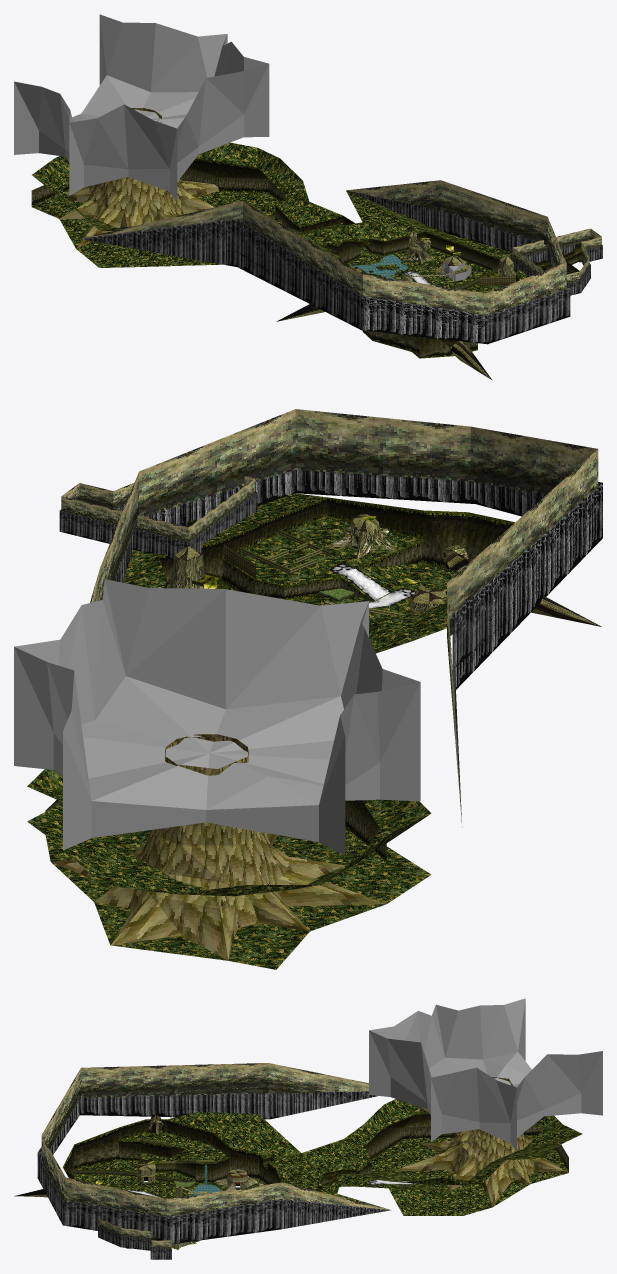
Rendered from world.obj.
The picture shows the model from 3 angles, top to bottom: view 1: azimuth 30°, elevation 25°; view 2: azimuth 150°, elevation 25°; view 3: azimuth 270°, elevation 25°; orthographic projection. The views are drawn at different scales.
Parts seen in each view (by area): view 1: dekutree_treetopd, main_treesm, dekutree_trunksd, main_trunksm, dekutree_grassd, main_grassm, dekutree_barkb, main_wallm, dekutree_walld2, dekutree_treesd, training_treest, training_trunkst (+4 smaller); view 2: dekutree_treetopd, main_treesm, dekutree_grassd, dekutree_barkb, main_grassm, dekutree_trunksd, main_trunksm, main_wallm, main_walls, training_treest, training_trunkst, main_ledge (+7 smaller); view 3: dekutree_treetopd, main_treesm, dekutree_grassd, dekutree_trunksd, main_grassm, main_trunksm, dekutree_barkb, main_wallm, dekutree_treesd, dekutree_walld2, main_walls, training_trunkst (+3 smaller).
Part boxes in pixels (x1,y1,x2,y2): dekutree_treetopd: [14, 14, 269, 201]; main_treesm: [81, 180, 566, 315]; dekutree_trunksd: [81, 190, 549, 329]; main_trunksm: [80, 219, 570, 344]; dekutree_grassd: [32, 142, 371, 267]; main_grassm: [299, 190, 547, 291]; dekutree_barkb: [54, 108, 218, 248]; main_wallm: [275, 205, 501, 358]; dekutree_walld2: [31, 158, 371, 253]; dekutree_treesd: [86, 182, 547, 267]; training_treest: [512, 228, 601, 282]; training_trunkst: [511, 242, 602, 295]; dekutree_treetopd: [14, 579, 420, 855]; main_treesm: [90, 409, 598, 822]; dekutree_grassd: [27, 769, 431, 969]; dekutree_barkb: [51, 734, 385, 960]; main_grassm: [122, 493, 458, 653]; dekutree_trunksd: [114, 483, 602, 821]; main_trunksm: [115, 470, 602, 813]; main_wallm: [159, 510, 514, 588]; main_walls: [223, 497, 423, 558]; training_treest: [61, 476, 255, 541]; training_trunkst: [59, 492, 257, 559]; main_ledge: [223, 540, 423, 601]; dekutree_treetopd: [369, 998, 602, 1151]; main_treesm: [41, 1063, 389, 1216]; dekutree_grassd: [301, 1099, 582, 1215]; dekutree_trunksd: [80, 1091, 390, 1244]; main_grassm: [74, 1111, 386, 1248]; main_trunksm: [37, 1091, 368, 1241]; dekutree_barkb: [394, 1077, 568, 1206]; main_wallm: [62, 1127, 358, 1188]; dekutree_treesd: [84, 1063, 368, 1213]; dekutree_walld2: [365, 1112, 568, 1172]; main_walls: [119, 1119, 212, 1157]; training_trunkst: [98, 1226, 171, 1259].
Bounding box in the file's own units: 54.91 × 24.93 × 83.74.
